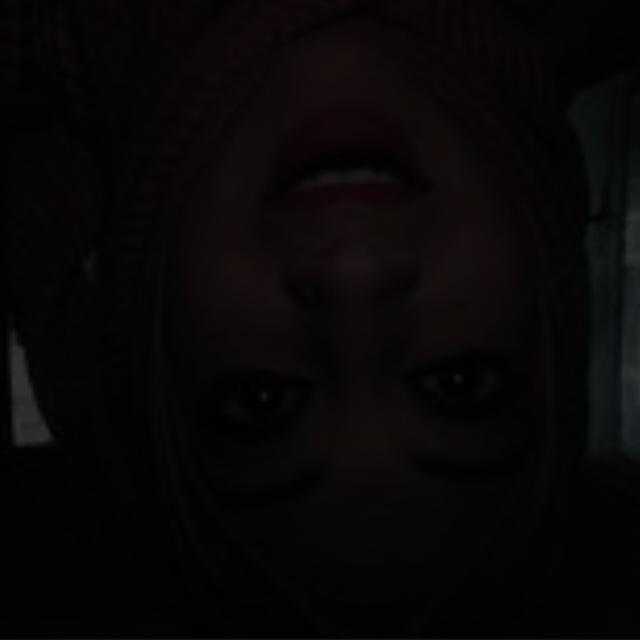Surprised: (123, 66, 579, 558)
